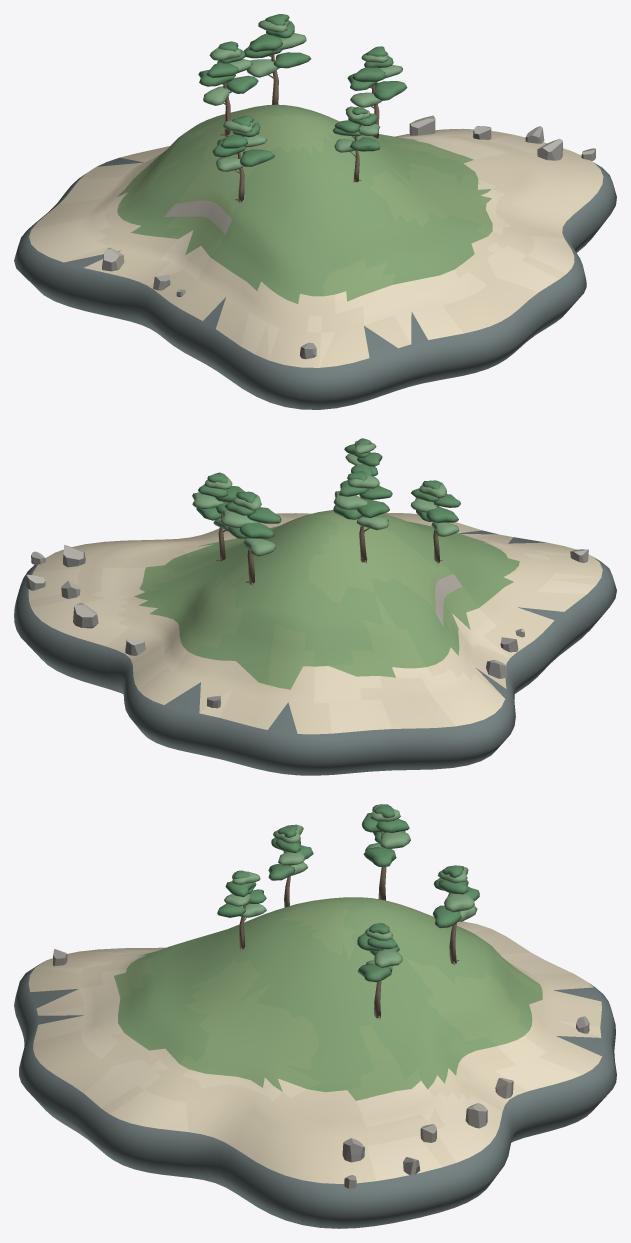
File: ENV_PineIsland_LOD1.fbx
3 renders of one model, top to bottom at view 1: azimuth 30°, elevation 25°; view 2: azimuth 150°, elevation 25°; view 3: azimuth 270°, elevation 25°, orthographic. The views are drawn at different scales.
Visible parts, largest first — view 1: TerrainShell, CoastalPine_3_Visual, Decor_Visual.001, CoastalPine_0_Visual, CoastalPine_2_Visual, CoastalPine_1_Visual, CoastalPine_4_Visual; view 2: TerrainShell, Decor_Visual.001, CoastalPine_0_Visual, CoastalPine_3_Visual, CoastalPine_2_Visual, CoastalPine_1_Visual, CoastalPine_4_Visual; view 3: TerrainShell, Decor_Visual.001, CoastalPine_0_Visual, CoastalPine_3_Visual, CoastalPine_1_Visual, CoastalPine_4_Visual, CoastalPine_2_Visual.
Part boxes in pixels (bbox=[...]): TerrainShell: bbox=[14, 104, 616, 409]; CoastalPine_3_Visual: bbox=[244, 14, 310, 104]; Decor_Visual.001: bbox=[102, 115, 595, 359]; CoastalPine_0_Visual: bbox=[198, 41, 258, 136]; CoastalPine_2_Visual: bbox=[212, 116, 274, 202]; CoastalPine_1_Visual: bbox=[347, 46, 407, 138]; CoastalPine_4_Visual: bbox=[332, 106, 380, 182]; TerrainShell: bbox=[14, 510, 616, 775]; Decor_Visual.001: bbox=[26, 545, 588, 708]; CoastalPine_0_Visual: bbox=[333, 471, 392, 562]; CoastalPine_3_Visual: bbox=[220, 491, 281, 585]; CoastalPine_2_Visual: bbox=[410, 480, 460, 563]; CoastalPine_1_Visual: bbox=[192, 472, 245, 561]; CoastalPine_4_Visual: bbox=[344, 438, 382, 476]; TerrainShell: bbox=[14, 897, 616, 1228]; Decor_Visual.001: bbox=[53, 949, 589, 1188]; CoastalPine_0_Visual: bbox=[361, 804, 410, 900]; CoastalPine_3_Visual: bbox=[432, 865, 479, 965]; CoastalPine_1_Visual: bbox=[357, 923, 402, 1019]; CoastalPine_4_Visual: bbox=[217, 870, 266, 950]; CoastalPine_2_Visual: bbox=[268, 824, 313, 907].
Bounding box in the file's own units: 2770 × 1146 × 2545.
